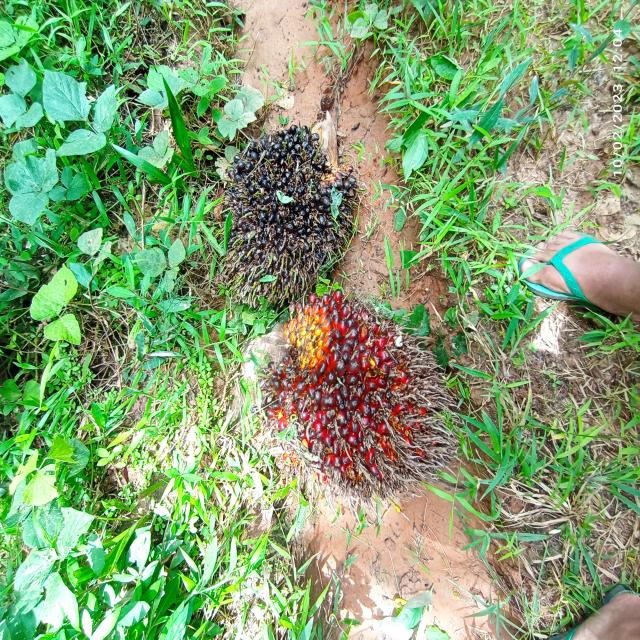fraksi 00: (201, 91, 368, 302)
fraksi 3: (264, 256, 463, 506)
